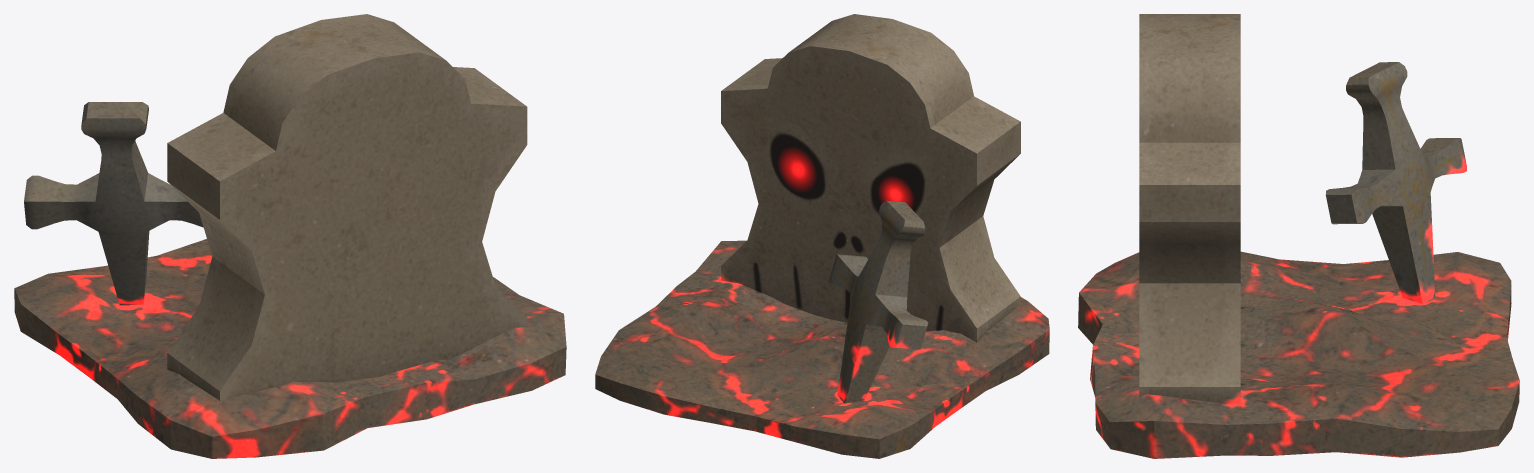
File: SM_PRP_SkullGraveyard.fbx
3 views of the same model, side by side, from view 1: azimuth 30°, elevation 25°; view 2: azimuth 150°, elevation 25°; view 3: azimuth 270°, elevation 25° (orthographic). The views are drawn at different scales.
Visible parts, largest first — view 1: m_Graveyard_low, m_Dirt_low, m_Cross_low; view 2: m_Graveyard_low, m_Dirt_low, m_Cross_low; view 3: m_Dirt_low, m_Graveyard_low, m_Cross_low.
Part boxes in pixels (left/top/right/bottom): m_Graveyard_low: left=167, top=14, right=527, bottom=401; m_Dirt_low: left=14, top=238, right=566, bottom=458; m_Cross_low: left=24, top=102, right=203, bottom=305; m_Graveyard_low: left=721, top=14, right=1020, bottom=342; m_Dirt_low: left=595, top=240, right=1049, bottom=458; m_Cross_low: left=829, top=200, right=928, bottom=403; m_Dirt_low: left=1078, top=251, right=1519, bottom=458; m_Graveyard_low: left=1139, top=14, right=1240, bottom=403; m_Cross_low: left=1325, top=62, right=1466, bottom=303.
Size of the model in its own units: 330 by 282 by 334.
1 material, 1 textured.
